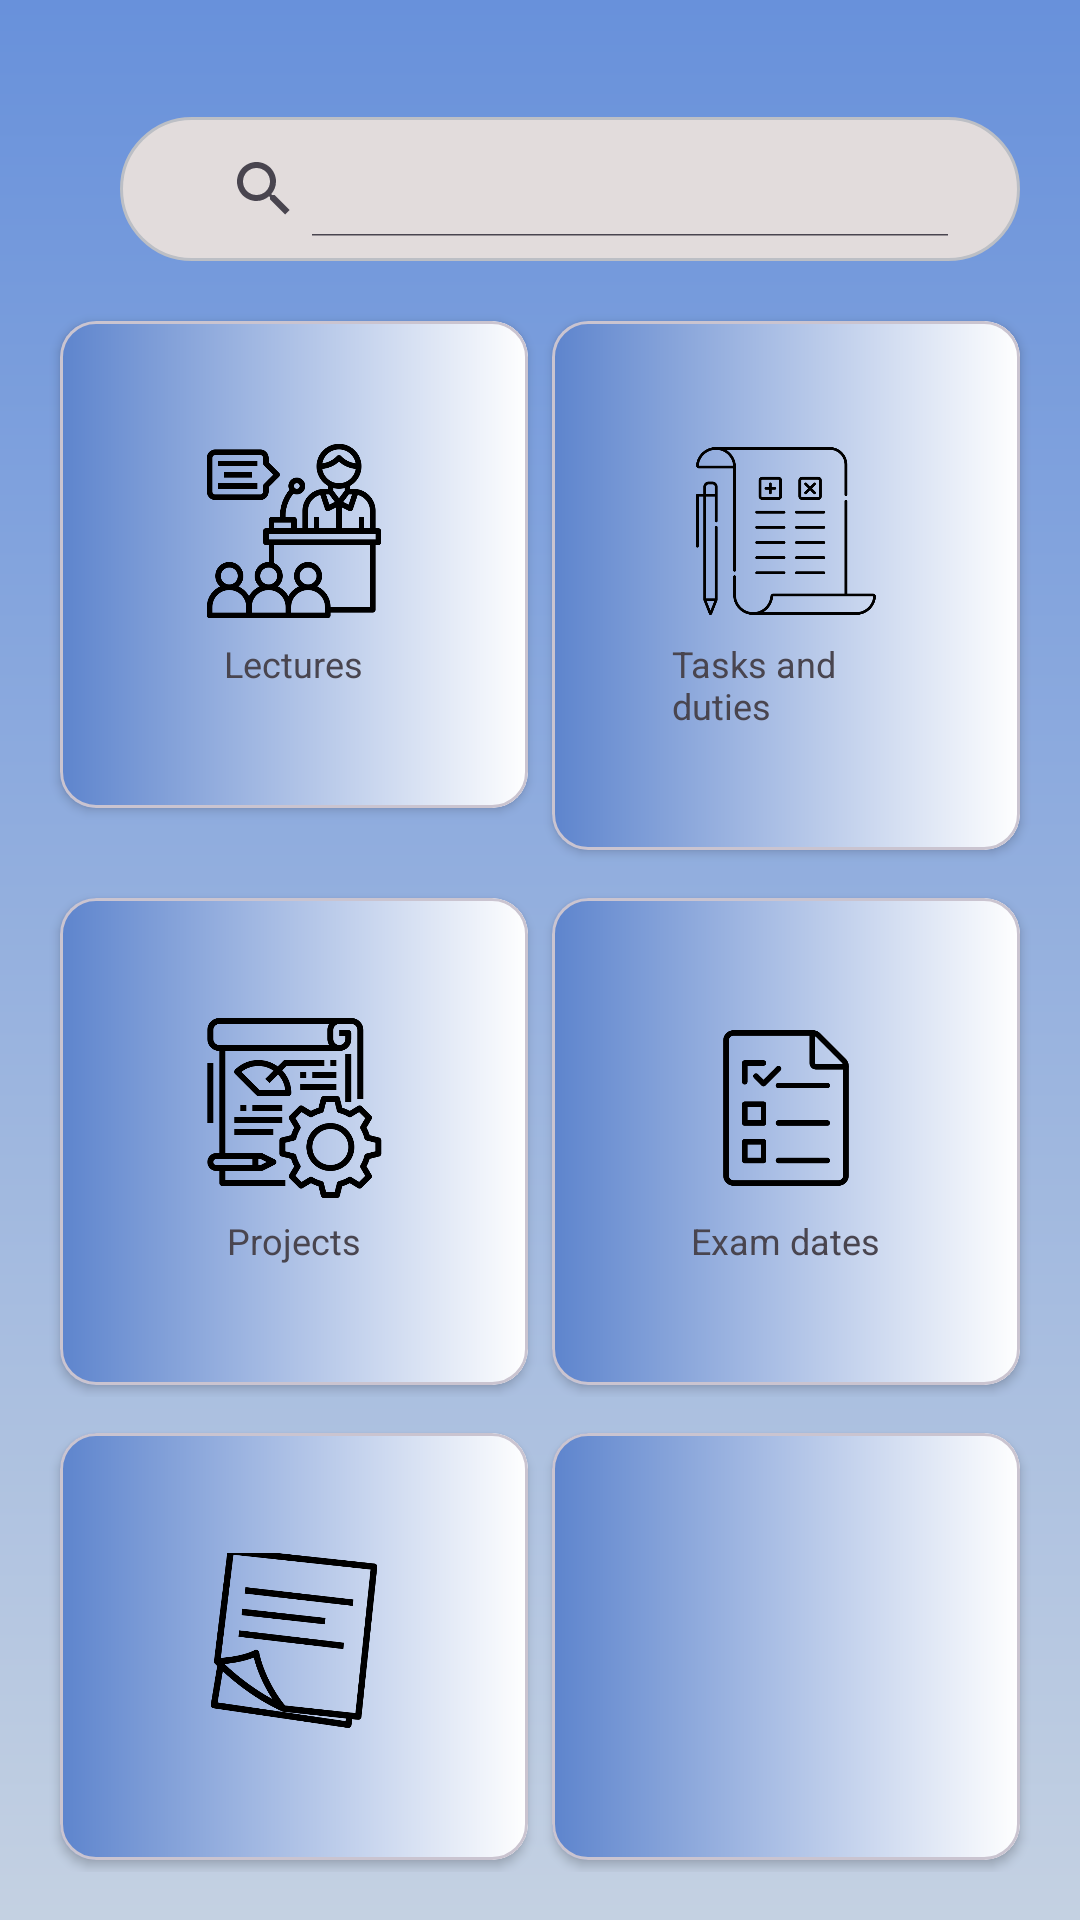

Screen size 1080*1920. Icon name, then its center in pixels as [x,y]:
note: [294,1638]
